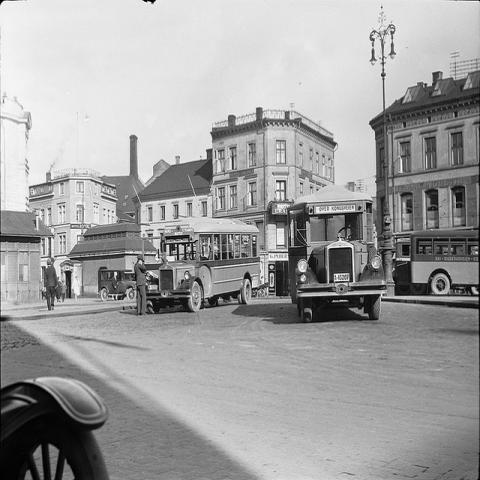bus: (285, 177, 383, 324), (145, 217, 262, 314), (408, 228, 480, 298)
